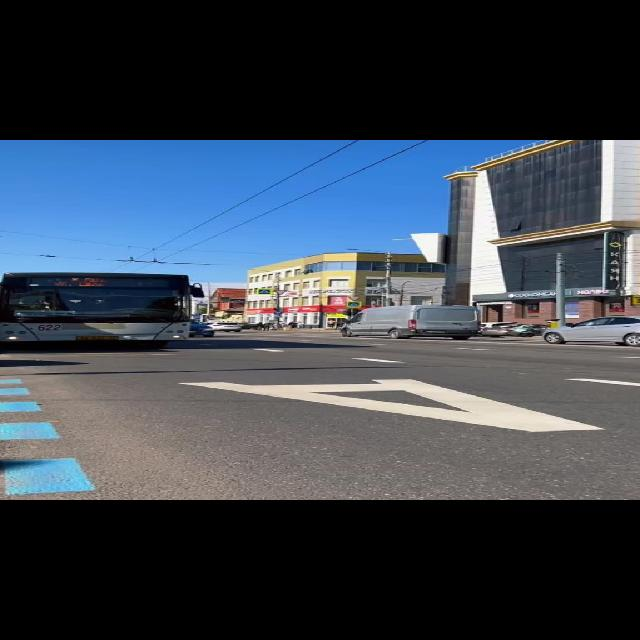road: (0, 332, 640, 500)
